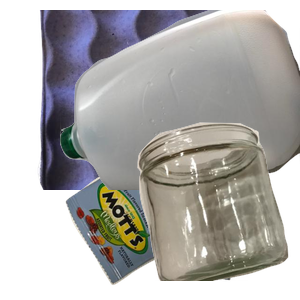glass: (135, 120, 300, 300)
paper: (35, 10, 268, 190)
plastic: (60, 10, 300, 190)
trash: (63, 137, 289, 300)
